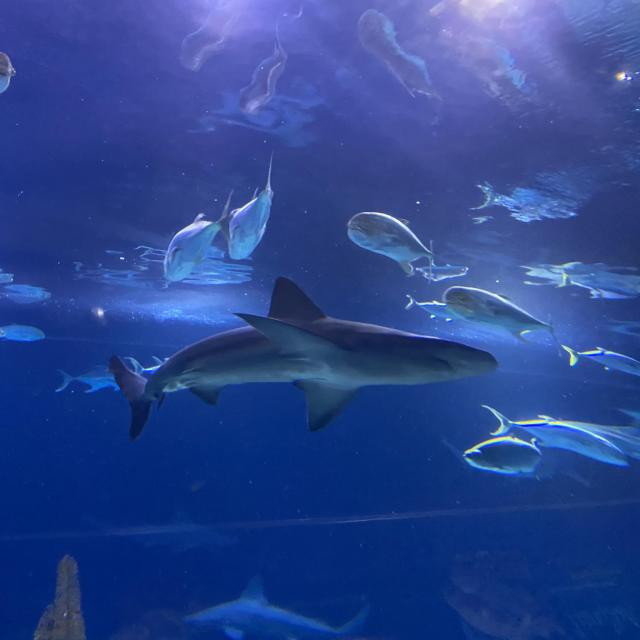fish: (481, 404, 628, 468), (444, 286, 558, 350), (163, 189, 235, 283), (346, 212, 433, 285), (228, 160, 274, 261), (464, 434, 543, 475), (561, 344, 640, 378), (54, 364, 120, 394), (123, 356, 170, 376), (0, 323, 46, 342), (0, 51, 16, 96)
shark: (108, 276, 499, 443), (179, 574, 371, 640), (80, 506, 238, 558)
